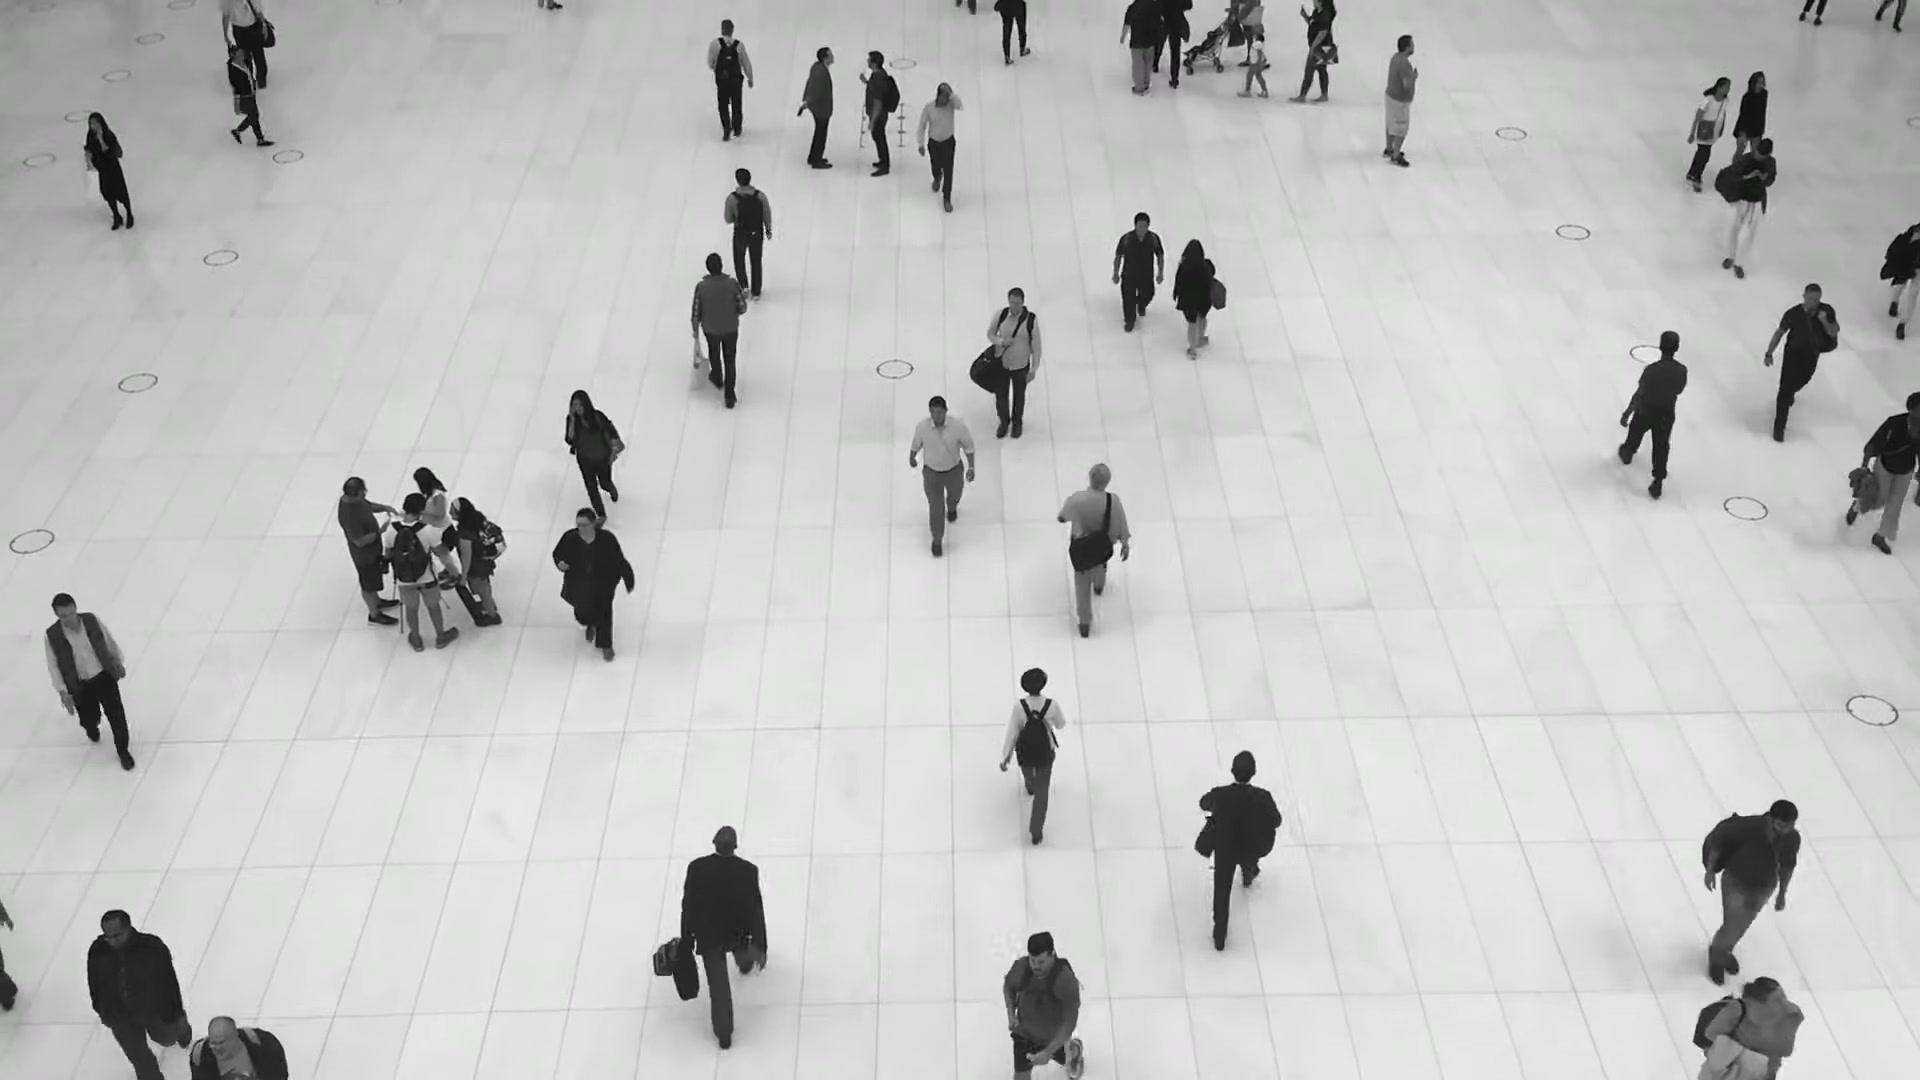person: (674, 829, 767, 1054), (1696, 798, 1797, 992), (84, 904, 193, 1080), (1197, 754, 1283, 959), (39, 590, 134, 764), (1001, 926, 1086, 1079), (551, 504, 630, 663), (382, 493, 458, 651), (1058, 462, 1129, 628), (1691, 976, 1803, 1080), (1764, 278, 1840, 433), (1621, 329, 1688, 493), (1001, 667, 1065, 837), (1851, 389, 1916, 554), (908, 391, 976, 547), (336, 475, 400, 629), (690, 256, 747, 415), (986, 288, 1042, 450), (1715, 138, 1776, 281), (565, 387, 623, 518), (448, 496, 502, 627), (722, 169, 773, 309), (1113, 210, 1165, 330), (83, 111, 134, 231), (914, 80, 960, 210), (412, 466, 459, 590), (1679, 77, 1729, 193), (705, 18, 751, 142), (1172, 242, 1216, 366), (859, 50, 899, 177), (1381, 33, 1418, 167), (225, 45, 270, 148), (1293, 0, 1336, 108), (799, 46, 834, 169), (1727, 71, 1767, 165), (1240, 29, 1270, 100)
